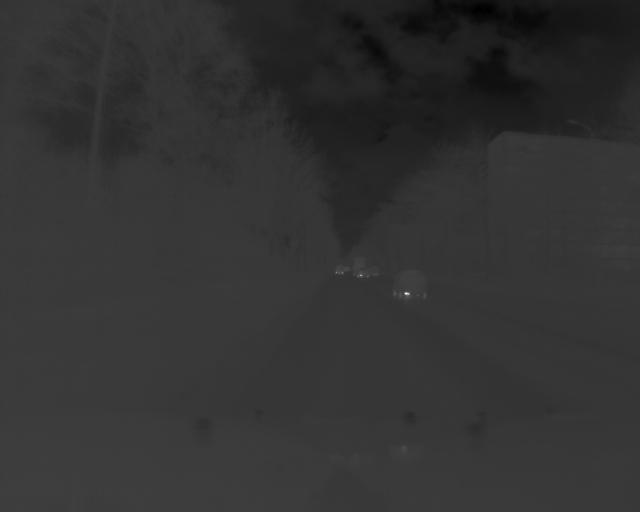car: (388, 266, 430, 302), (355, 263, 372, 281), (333, 261, 345, 276)
